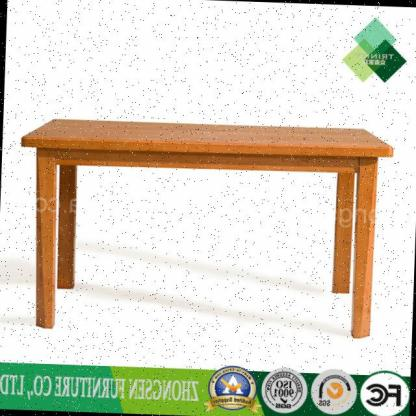Table: (0, 100, 408, 350)
